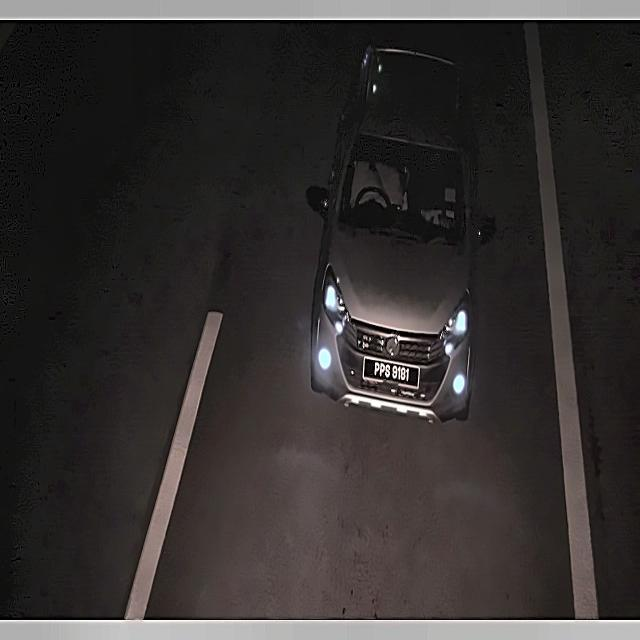car: (361, 355, 426, 392)
